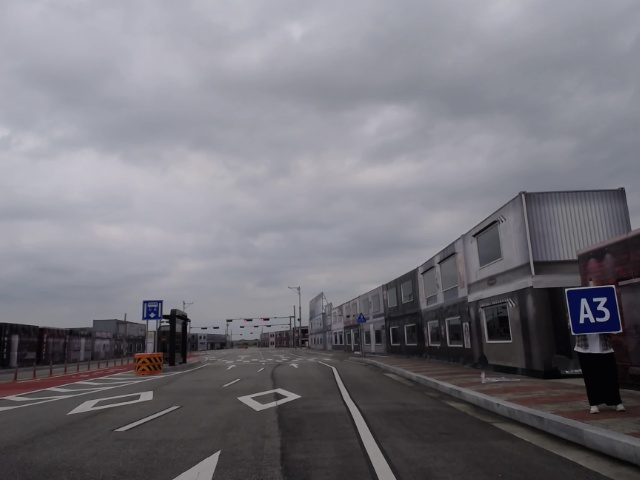delivery_a3: (565, 286, 622, 334)
